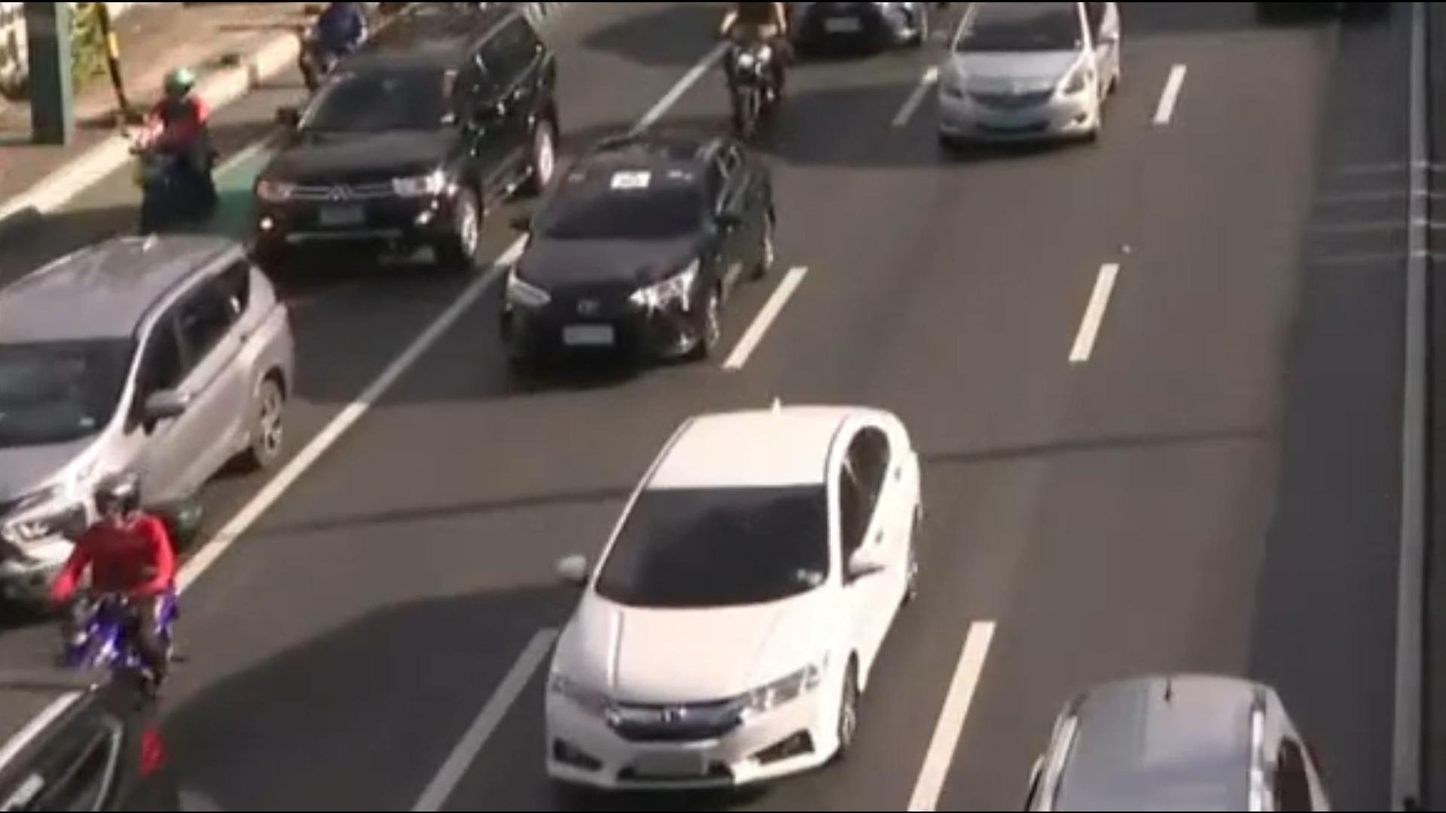Motorcycle: (63, 450, 194, 709), (120, 61, 256, 237), (694, 0, 818, 133), (277, 0, 382, 96)
SUV: (0, 213, 313, 605), (239, 0, 550, 294)
Sedan: (481, 375, 998, 813), (468, 126, 806, 386), (923, 0, 1174, 194)
